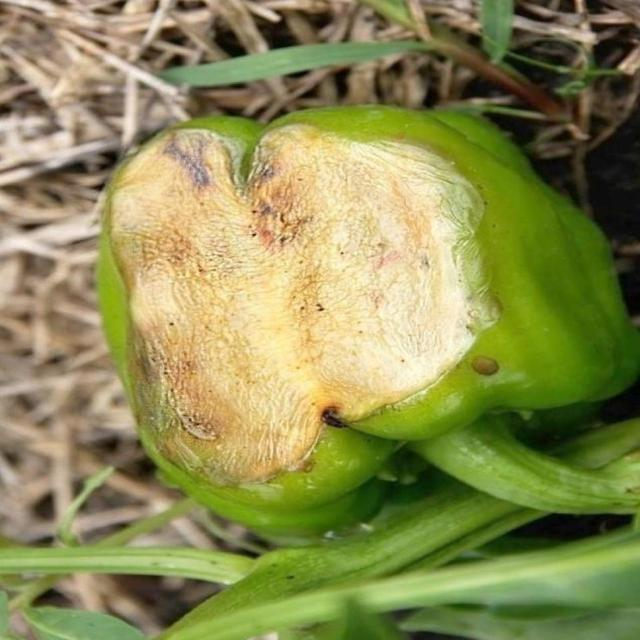Sunscald Fruit: (58, 86, 348, 319)
